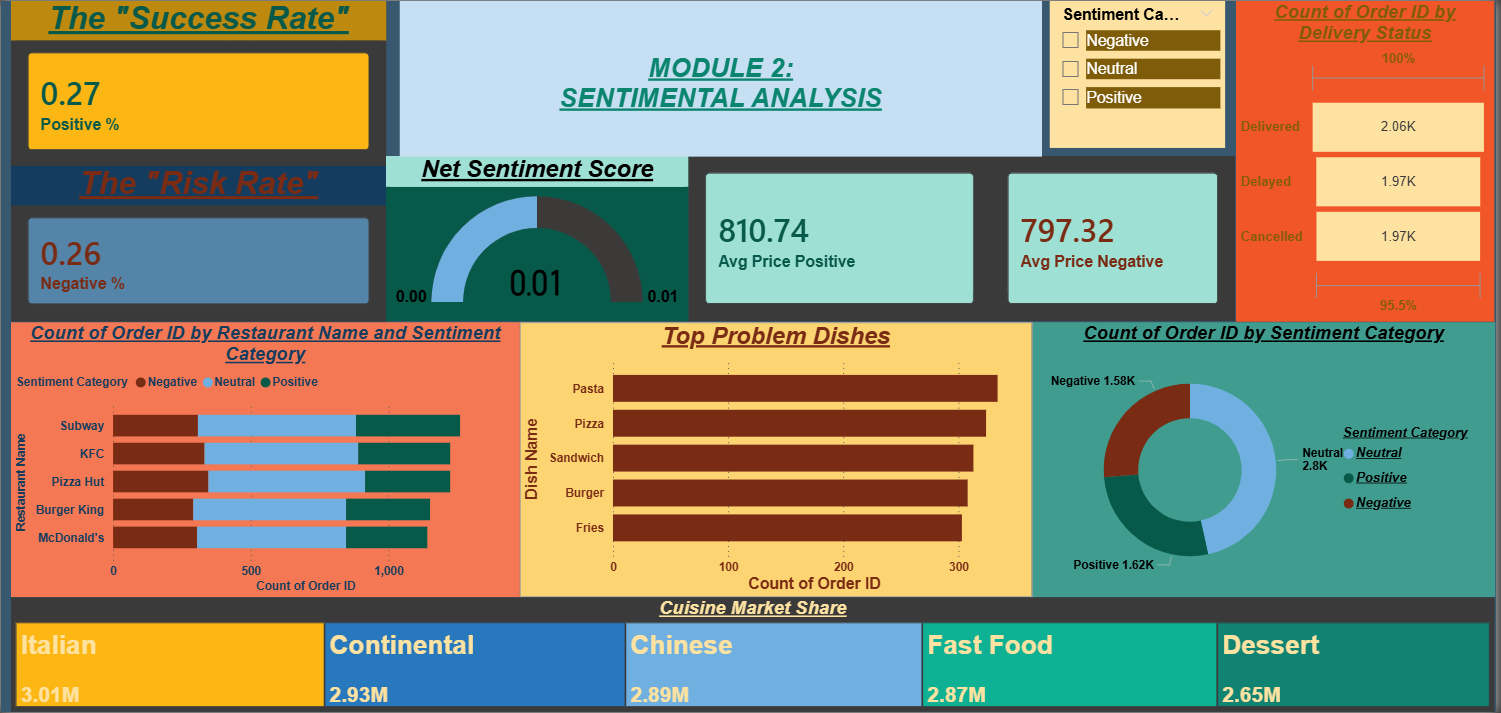

The dashboard page shown, as its layout file describes it:
{"tool":"powerbi","page":{"name":"Sentimental Analysis","canvas":[1513,720],"ordinal":1},"visuals":[{"type":"donutChart","fields":{"Category":["Foodpanda Analysis Dataset.Sentiment Category"],"Y":["CountNonNull(Foodpanda Analysis Dataset.Order ID)"]},"box":[1043.8,325,468.8,278.8],"z":0},{"type":"clusteredBarChart","title":"Top Problem Dishes","fields":{"Category":["Foodpanda Analysis Dataset.Dish Name"],"Y":["CountNonNull(Foodpanda Analysis Dataset.Order ID)"]},"box":[525,325,518.8,278.8],"z":1000},{"type":"barChart","fields":{"Category":["Foodpanda Analysis Dataset.Restaurant Name"],"Series":["Foodpanda Analysis Dataset.Sentiment Category"],"Y":["CountNonNull(Foodpanda Analysis Dataset.Order ID)"]},"box":[10,325,515,278.8],"z":2000},{"type":"cardVisual","title":"The \"Success Rate\"","fields":{"Data":["Foodpanda Analysis Dataset.Positive %"]},"box":[10,0,380,168.8],"z":3000},{"type":"cardVisual","title":"The \"Risk Rate\"","fields":{"Data":["Foodpanda Analysis Dataset.Negative %"]},"box":[10,167.5,380,157.5],"z":4000},{"type":"gauge","title":"Net Sentiment Score","fields":{"Y":["Foodpanda Analysis Dataset.Net Sentiment Score"]},"box":[390,157.5,306.2,167.5],"z":5000},{"type":"cardVisual","fields":{"Data":["Foodpanda Analysis Dataset.Avg Price Positive"]},"box":[696.2,157.5,306.2,167.5],"z":6000},{"type":"cardVisual","fields":{"Data":["Foodpanda Analysis Dataset.Avg Price Negative"]},"box":[1002.5,157.5,247.5,167.5],"z":7000},{"type":"textbox","box":[403.8,0,650,157.5],"z":8000},{"type":"slicer","fields":{"Values":["Foodpanda Analysis Dataset.Sentiment Category"]},"box":[1062.5,0,177.5,148.8],"z":9000},{"type":"funnel","fields":{"Category":["Foodpanda Analysis Dataset.Delivery Status"],"Y":["CountNonNull(Foodpanda Analysis Dataset.Order ID)"]},"box":[1251.2,0,261.2,325],"z":10000},{"type":"treemap","title":"Cuisine Market Share","fields":{"Group":["Foodpanda Analysis Dataset.Category"],"Values":["Sum(Foodpanda Analysis Dataset.Total Sales)"]},"box":[10,603.8,1502.5,116.2],"z":11000}]}

Visuals, with their boxes in screenshot pixels (x1, y1, x2, y2), scaled from the page's 1513x720 canvas onto the 1501x713 screenshot:
donutChart - Foodpanda Analysis Dataset.Sentiment Category x CountNonNull(Foodpanda Analysis Dataset.Order ID): bbox(1036, 322, 1500, 598)
"Top Problem Dishes" clusteredBarChart: bbox(521, 322, 1036, 598)
barChart - Foodpanda Analysis Dataset.Restaurant Name x Foodpanda Analysis Dataset.Sentiment Category: bbox(10, 322, 521, 598)
"The "Success Rate"" cardVisual: bbox(10, 0, 387, 167)
"The "Risk Rate"" cardVisual: bbox(10, 166, 387, 322)
"Net Sentiment Score" gauge: bbox(387, 156, 691, 322)
cardVisual - Foodpanda Analysis Dataset.Avg Price Positive: bbox(691, 156, 994, 322)
cardVisual - Foodpanda Analysis Dataset.Avg Price Negative: bbox(995, 156, 1240, 322)
textbox: bbox(401, 0, 1045, 156)
slicer - Foodpanda Analysis Dataset.Sentiment Category: bbox(1054, 0, 1230, 147)
funnel - Foodpanda Analysis Dataset.Delivery Status x CountNonNull(Foodpanda Analysis Dataset.Order ID): bbox(1241, 0, 1500, 322)
"Cuisine Market Share" treemap: bbox(10, 598, 1500, 712)
